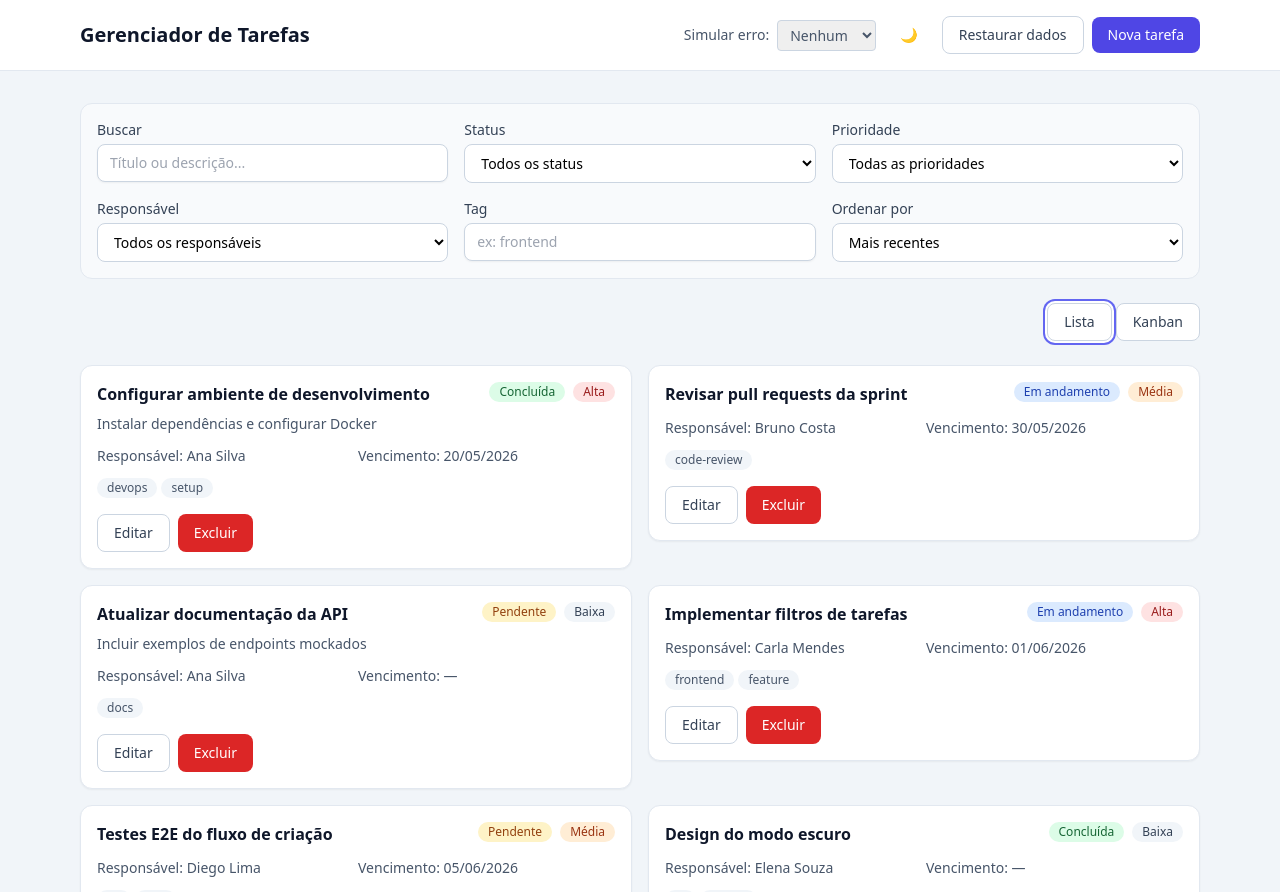
Test: HomePage integration › switches to kanban view and shows columns
Expected: the heading "Configurar ambiente de desenvolvimento" is shown, 97,382 -> 430,406
Click the button with test id "view-toggle-kanban". click: {"x": 1158, "y": 322}
box: 1116,303 -> 1200,341
(page scrolled)
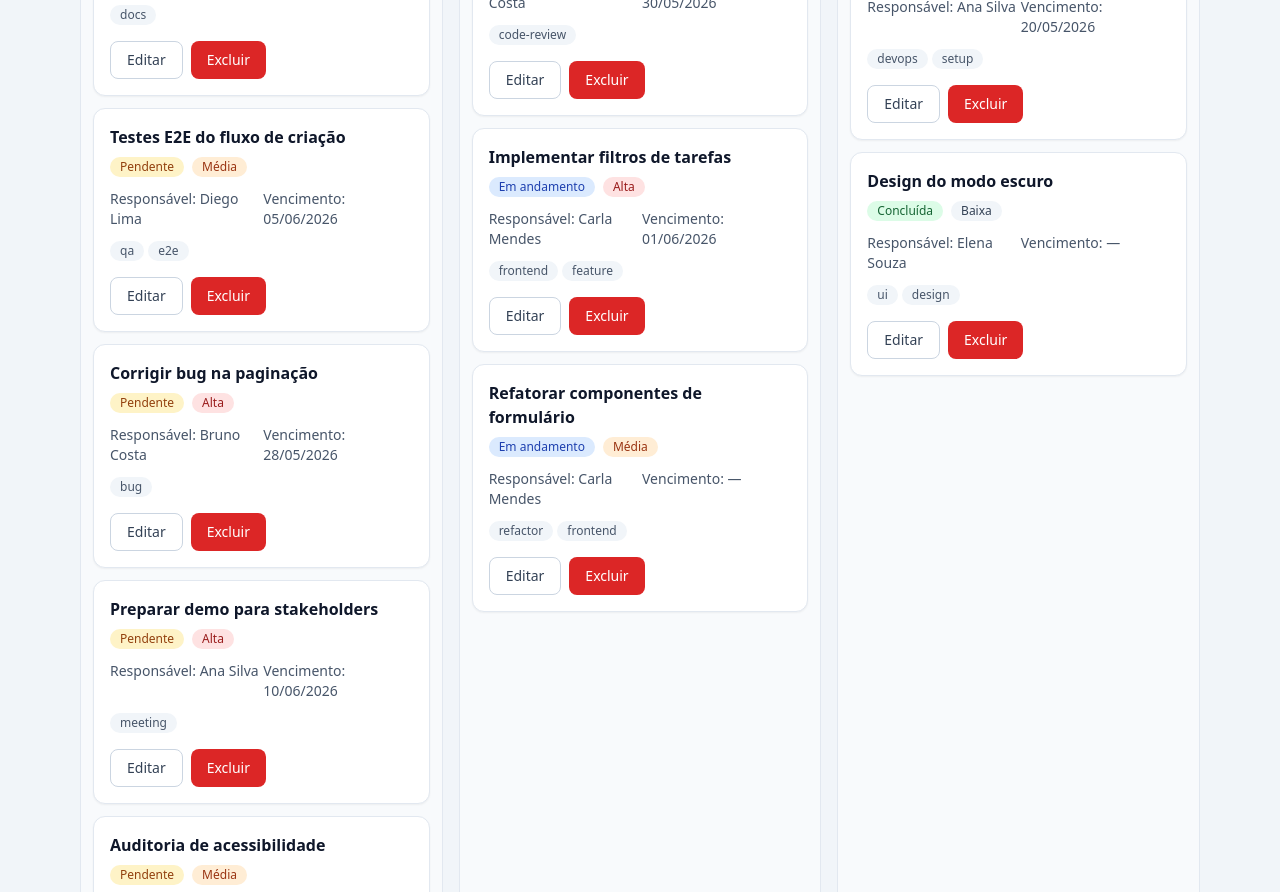
Now the dropdown with test id "filter-status" is gone
